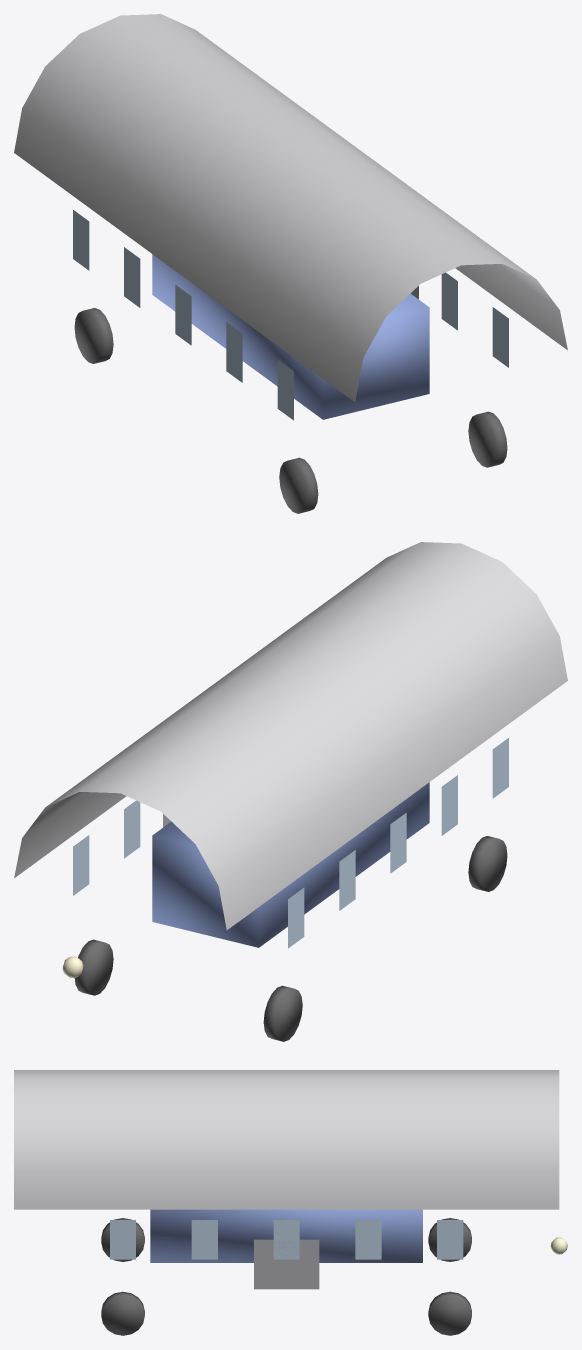
The model's file is mesh_subway_train.fbx.
3 views of the same model, one above another, from view 1: azimuth 30°, elevation 25°; view 2: azimuth 150°, elevation 25°; view 3: azimuth 270°, elevation 25° (orthographic). The views are drawn at different scales.
Parts seen in each view (by area): view 1: mesh_subway_train; view 2: mesh_subway_train; view 3: mesh_subway_train.
Boxes of the visible parts, x1=… form: mesh_subway_train: x1=14, y1=14, x2=567, y2=513; mesh_subway_train: x1=14, y1=542, x2=567, y2=1041; mesh_subway_train: x1=14, y1=1070, x2=567, y2=1335.
Size of the model in its own units: 1.82 by 2.2 by 5.08.
